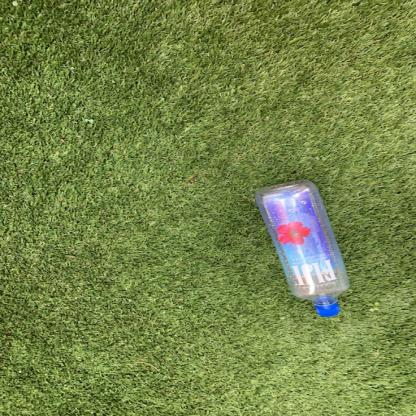trash: (249, 178, 355, 314)
